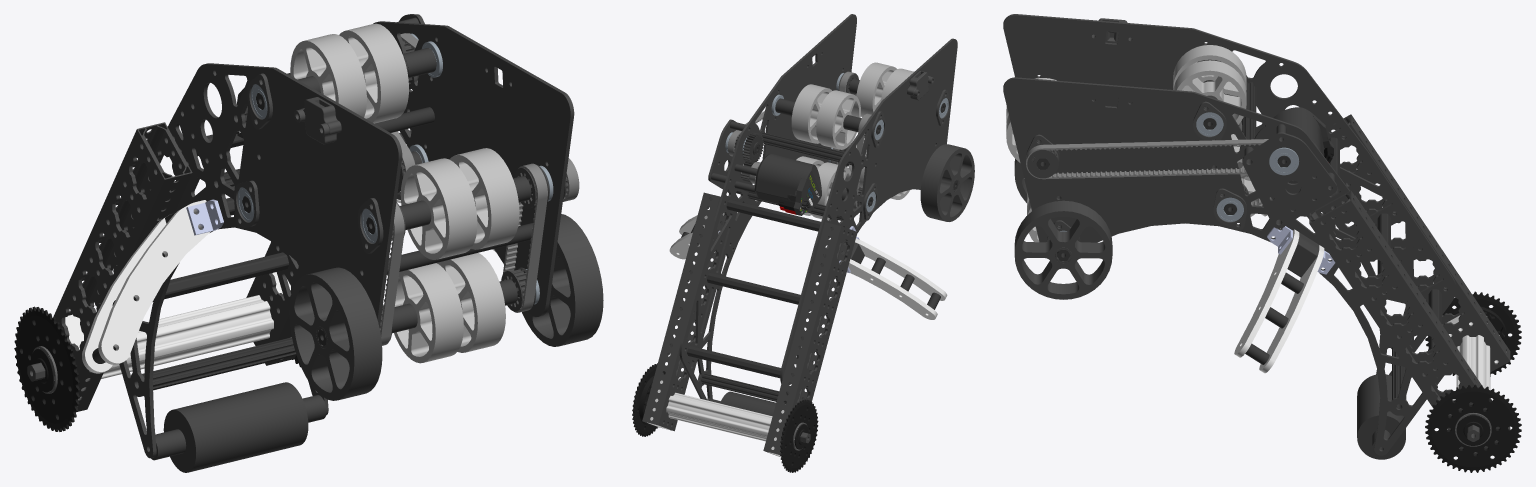
3 views of the same model, side by side, from view 1: azimuth 30°, elevation 25°; view 2: azimuth 150°, elevation 25°; view 3: azimuth 270°, elevation 25° (orthographic). The views are drawn at different scales.
Visible parts, largest first — view 1: NAUO25, NAUO114, NAUO148, NAUO52, NAUO81, NAUO76, NAUO147, NAUO72, NAUO40, NAUO61, NAUO151, NAUO4 (+22 smaller); view 2: NAUO25, NAUO114, NAUO148, NAUO150, NAUO52, NAUO147, NAUO138, NAUO111, NAUO151, NAUO11, NAUO20, NAUO4 (+14 smaller); view 3: NAUO114, NAUO25, NAUO150, NAUO76, NAUO148, NAUO149, NAUO68, NAUO23, NAUO81, NAUO11, NAUO8, NAUO111 (+10 smaller).
Boxes of the visible parts, <box> form: NAUO25: <box>110,63,402,458</box>; NAUO114: <box>271,21,574,415</box>; NAUO148: <box>53,122,192,412</box>; NAUO52: <box>289,267,382,400</box>; NAUO81: <box>163,382,308,472</box>; NAUO76: <box>522,214,603,346</box>; NAUO147: <box>39,295,273,391</box>; NAUO72: <box>98,200,210,364</box>; NAUO40: <box>400,158,477,259</box>; NAUO61: <box>394,263,463,363</box>; NAUO151: <box>14,306,80,431</box>; NAUO4: <box>449,148,519,249</box>; NAUO25: <box>780,38,957,400</box>; NAUO114: <box>679,14,856,400</box>; NAUO148: <box>763,222,857,456</box>; NAUO150: <box>642,192,730,431</box>; NAUO52: <box>920,144,974,221</box>; NAUO147: <box>666,392,797,441</box>; NAUO138: <box>754,154,821,203</box>; NAUO111: <box>816,90,860,149</box>; NAUO151: <box>780,399,818,472</box>; NAUO11: <box>791,84,831,143</box>; NAUO20: <box>840,259,937,319</box>; NAUO4: <box>856,62,896,116</box>; NAUO114: <box>1003,77,1454,455</box>; NAUO25: <box>1003,14,1455,375</box>; NAUO150: <box>1309,190,1510,454</box>; NAUO76: <box>1014,200,1112,299</box>; NAUO148: <box>1329,114,1510,372</box>; NAUO149: <box>1425,384,1521,472</box>; NAUO68: <box>1242,132,1337,228</box>; NAUO23: <box>1026,139,1268,179</box>; NAUO81: <box>1357,374,1405,459</box>; NAUO11: <box>1173,60,1246,124</box>; NAUO8: <box>1234,229,1299,357</box>; NAUO111: <box>1173,45,1246,96</box>.
Size of the model in its own units: 0.4103 by 0.4495 by 0.538.
